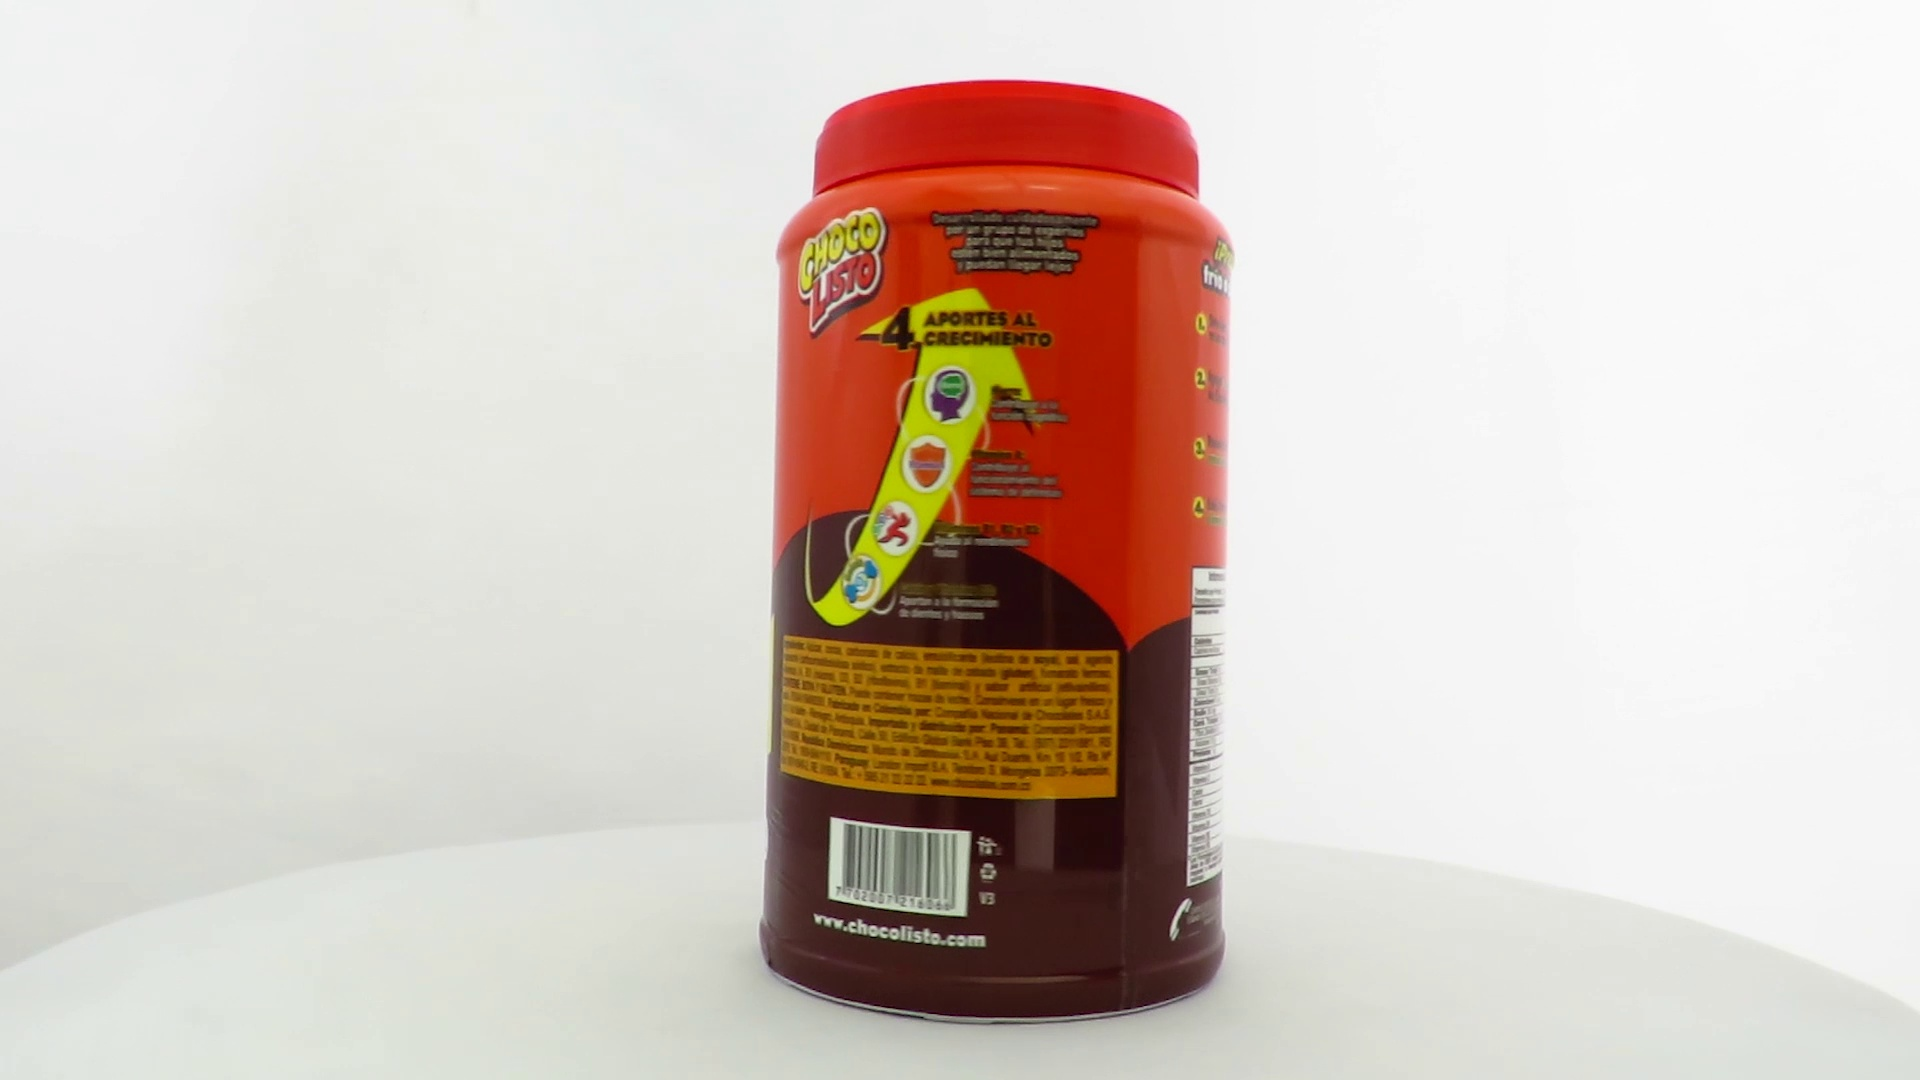COL0170103TRR00100: (754, 75, 1526, 1033)
